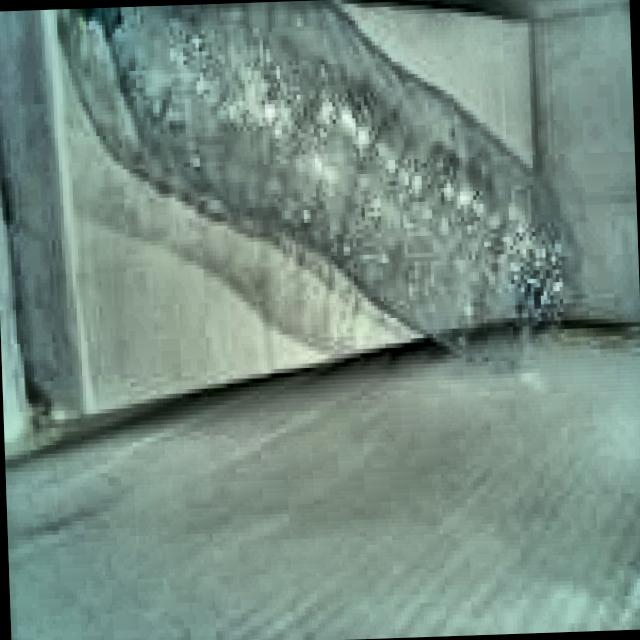plastic bottle: (82, 4, 574, 365)
